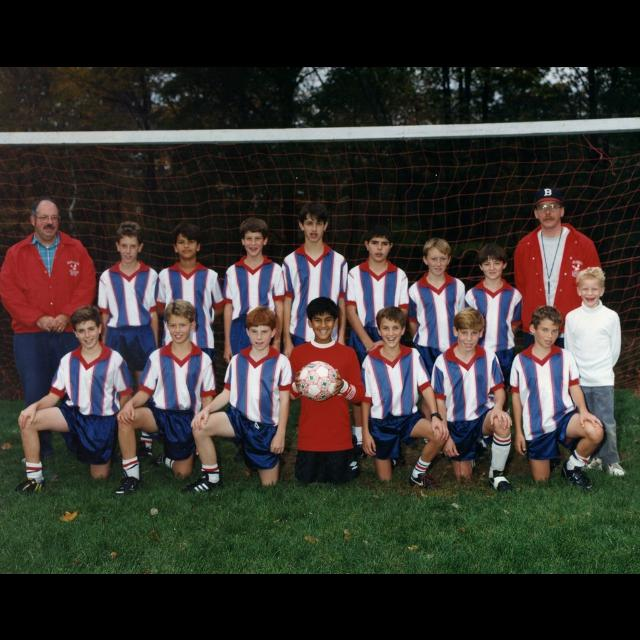Football: (296, 357, 338, 399)
